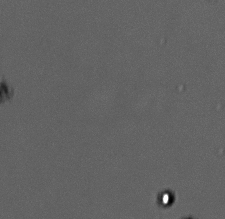Dead Cell: (1, 82, 11, 100)
Living Cell: (158, 189, 174, 207)
